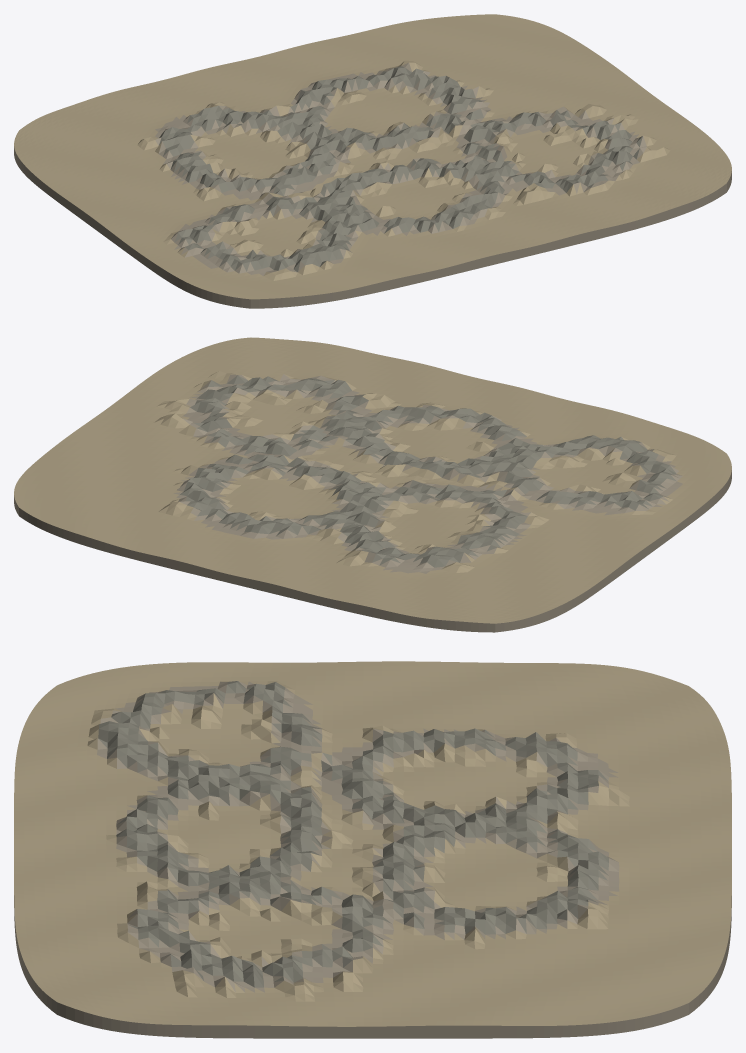
3 views of the same model, one above another, from view 1: azimuth 30°, elevation 25°; view 2: azimuth 150°, elevation 25°; view 3: azimuth 270°, elevation 25° (orthographic). The views are drawn at different scales.
Parts seen in each view (by area): view 1: five_natural_frost_sorted_fine_centers_diffuse_coarse_clast_; view 2: five_natural_frost_sorted_fine_centers_diffuse_coarse_clast_; view 3: five_natural_frost_sorted_fine_centers_diffuse_coarse_clast_.
Part boxes in pixels (left/top/right/bottom): five_natural_frost_sorted_fine_centers_diffuse_coarse_clast_: left=14, top=14, right=731, bottom=308; five_natural_frost_sorted_fine_centers_diffuse_coarse_clast_: left=14, top=337, right=731, bottom=632; five_natural_frost_sorted_fine_centers_diffuse_coarse_clast_: left=14, top=661, right=731, bottom=1038.
Bounding box in the file's own units: 12 × 0.423 × 10.
